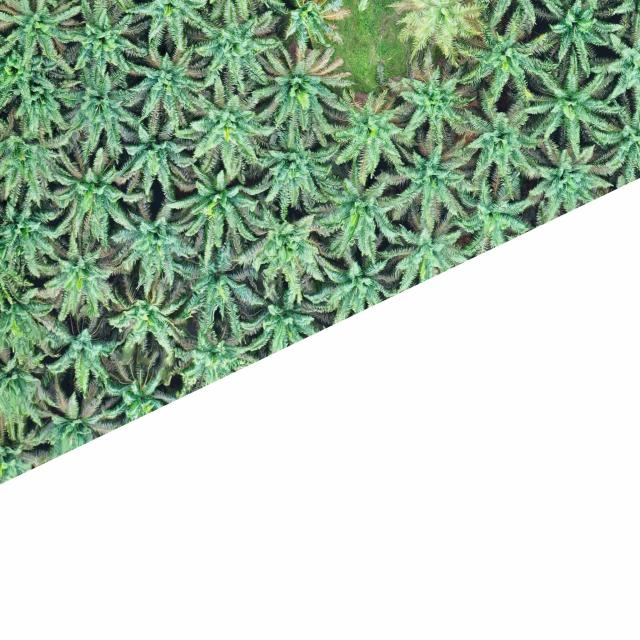Tree: (517, 46, 630, 156), (42, 143, 147, 252), (170, 241, 270, 351), (448, 10, 561, 106), (175, 75, 277, 179), (376, 130, 484, 228), (244, 42, 354, 137), (305, 160, 407, 262), (106, 194, 200, 300), (248, 124, 344, 227), (233, 202, 328, 306), (158, 162, 264, 252), (112, 99, 200, 203), (58, 61, 144, 164), (460, 85, 538, 198), (321, 87, 410, 186), (384, 52, 478, 144), (33, 235, 129, 323), (126, 34, 211, 133), (0, 108, 78, 215), (193, 0, 280, 95), (53, 0, 149, 77), (382, 0, 492, 65), (41, 320, 120, 398), (0, 0, 87, 70), (0, 37, 59, 115)
